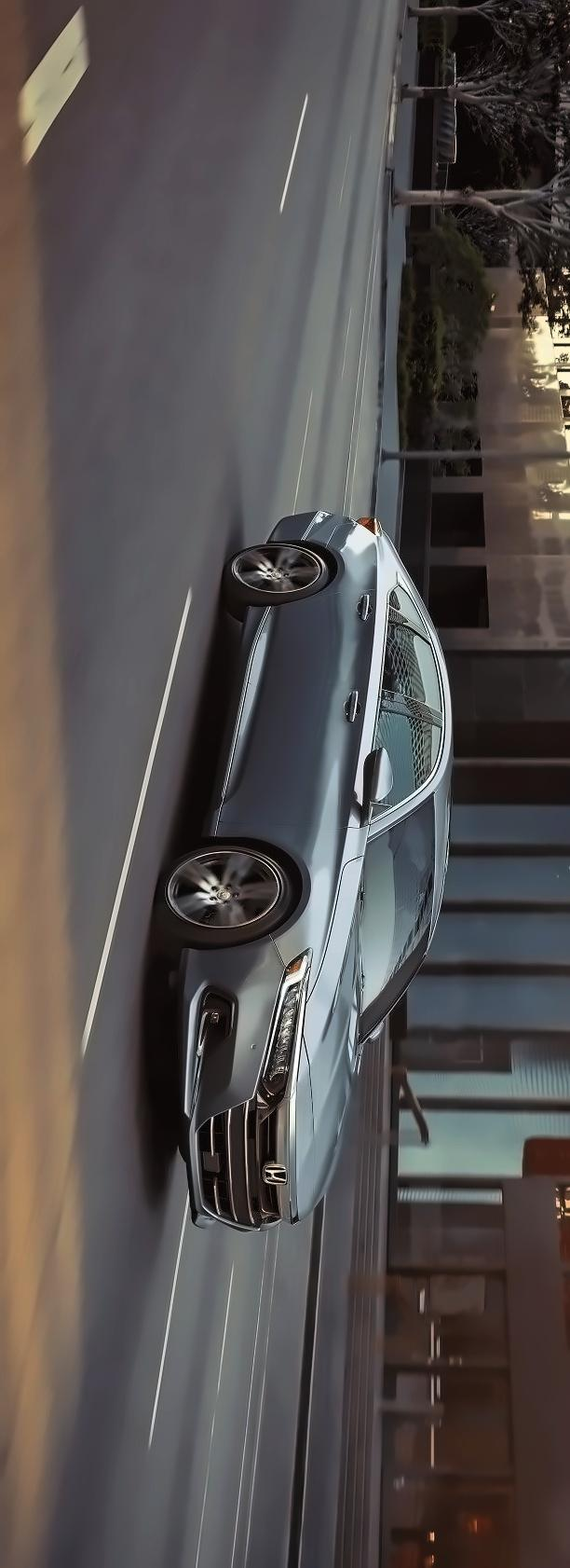Car hood: (298, 852, 361, 1225)
Driver-s door - -F-R-: (188, 698, 445, 850)
Fender - -F-R-: (175, 795, 357, 977)
Fender - -R-R-: (285, 522, 429, 630)
Front bumper: (170, 935, 280, 1233)
Headlight - -R-: (254, 947, 315, 1105)
Passenger-s door - -R-R-: (208, 591, 457, 729)
Rear bumper: (265, 504, 353, 552)
Rear light - -R-: (354, 515, 384, 539)
Side bumper - -R-: (192, 591, 287, 844)
Side mirror - -R-: (354, 739, 399, 828)
